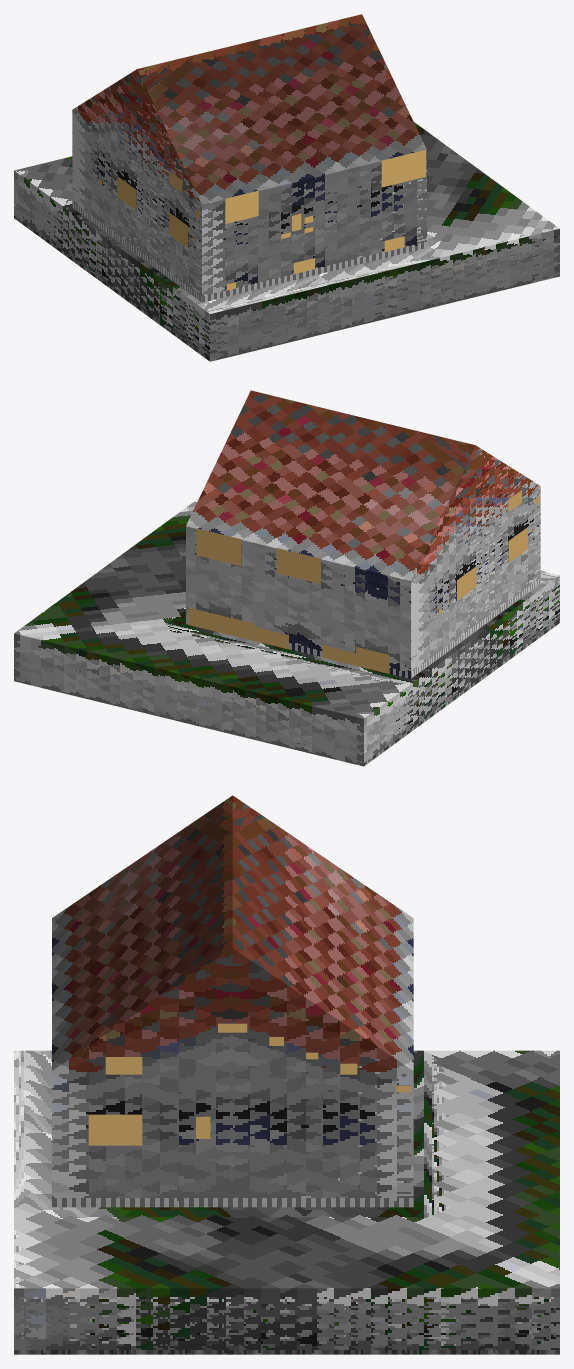
File: dum_4e_domy.glb
The picture shows the model from 3 angles, top to bottom: view 1: azimuth 30°, elevation 25°; view 2: azimuth 150°, elevation 25°; view 3: azimuth 270°, elevation 25°; orthographic projection. The views are drawn at different scales.
Parts seen in each view (by area): view 1: object 1, noc; view 2: object 1, noc; view 3: object 1, noc.
Boxes of the visible parts, left/top/right/bottom form: object 1: left=14, top=14, right=559, bottom=361; noc: left=99, top=150, right=425, bottom=290; object 1: left=14, top=390, right=559, bottom=766; noc: left=188, top=490, right=540, bottom=673; object 1: left=14, top=795, right=559, bottom=1354; noc: left=88, top=1023, right=410, bottom=1145.
Size of the model in its own units: 14.38 by 9.19 by 13.97.
1 material, 1 textured.
